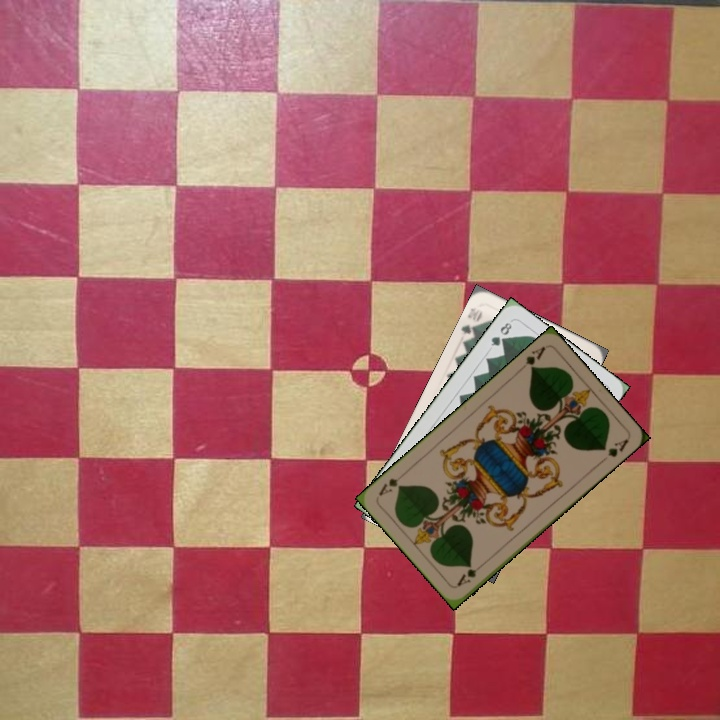G10: (457, 303, 485, 339)
G8: (487, 318, 515, 349)
GA: (453, 559, 487, 589), (521, 342, 548, 373)
